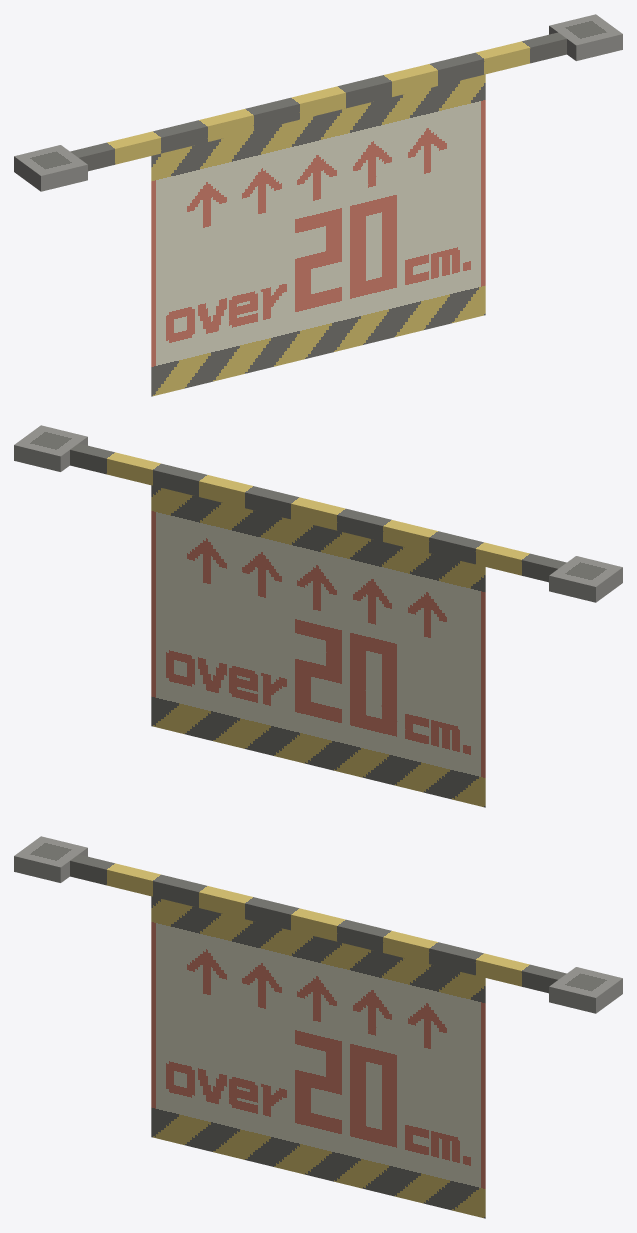
The model's file is 05b4_Over_20cm_Sign.glb.
3 views of the same model, one above another, from view 1: azimuth 30°, elevation 25°; view 2: azimuth 150°, elevation 25°; view 3: azimuth 330°, elevation 25° (orthographic).
Parts seen in each view (by area): view 1: part_0; view 2: part_0; view 3: part_0.
Boxes of the visible parts, x1,y1,x2,y2 form: part_0: (14, 14, 622, 396); part_0: (14, 425, 622, 807); part_0: (14, 836, 622, 1218).
Size of the model in its own units: 0.174 by 0.0745 by 0.014.
1 material, 1 textured.
